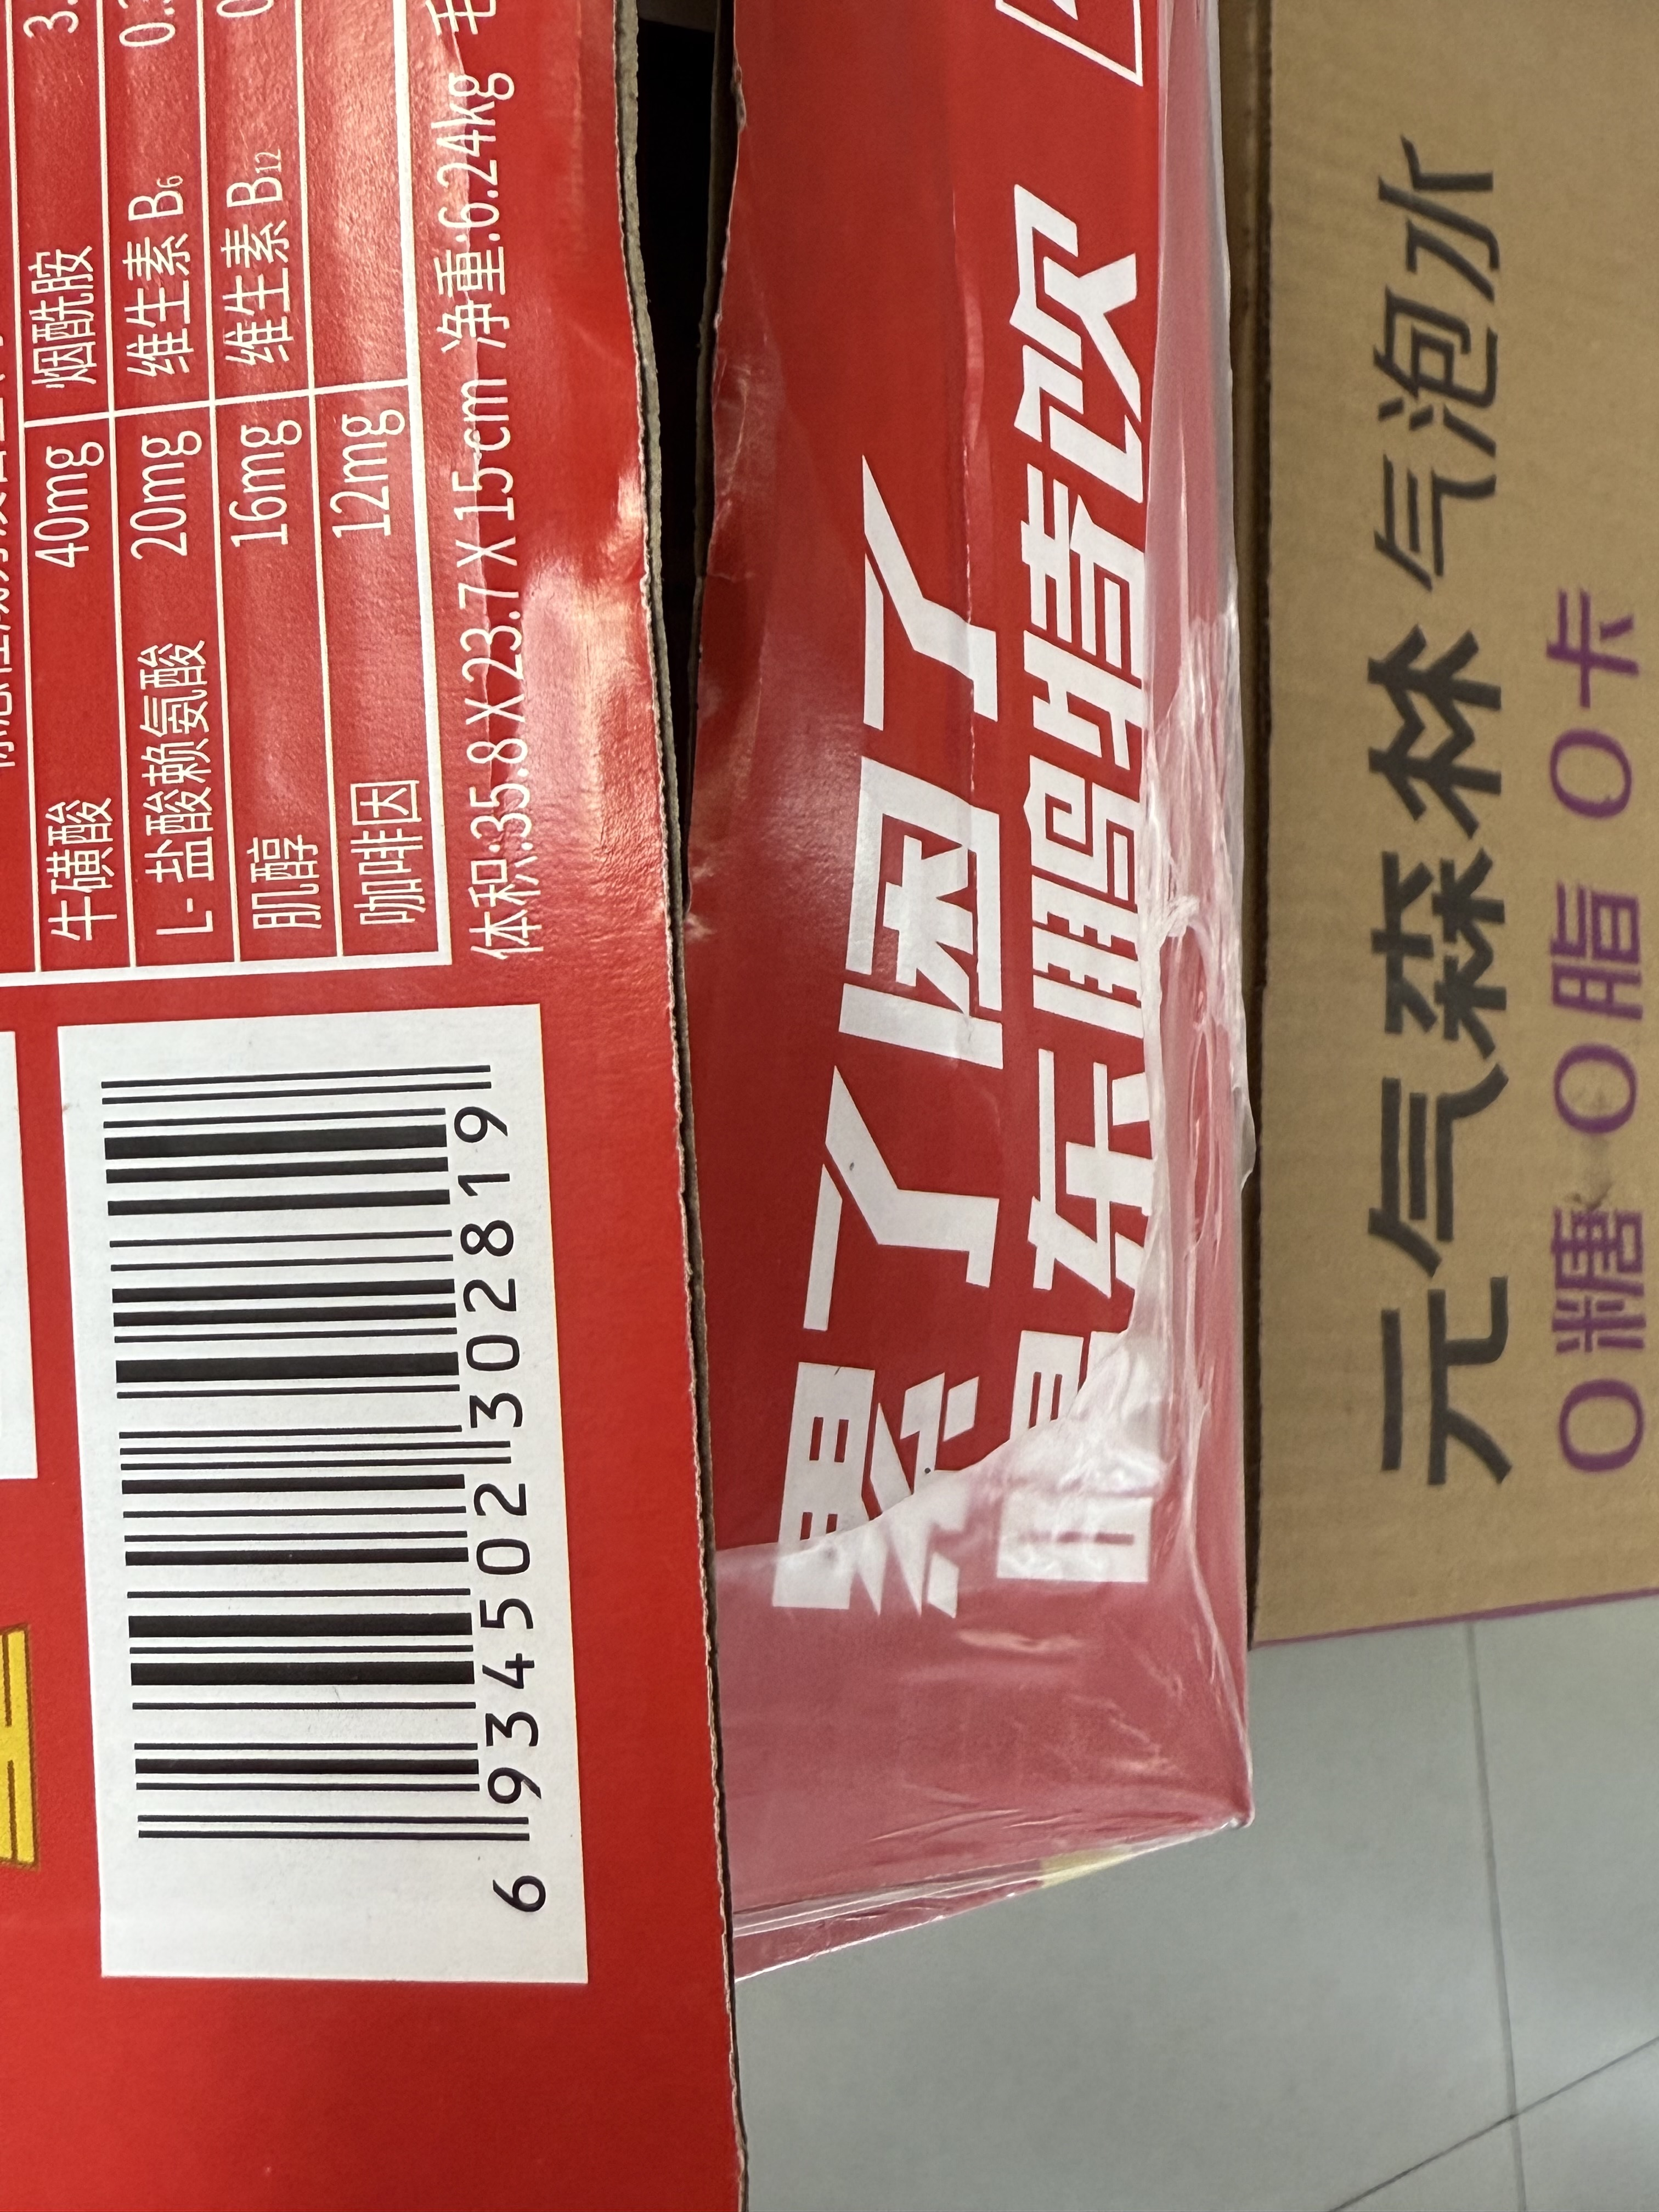bar: (92, 1059, 547, 1853)
